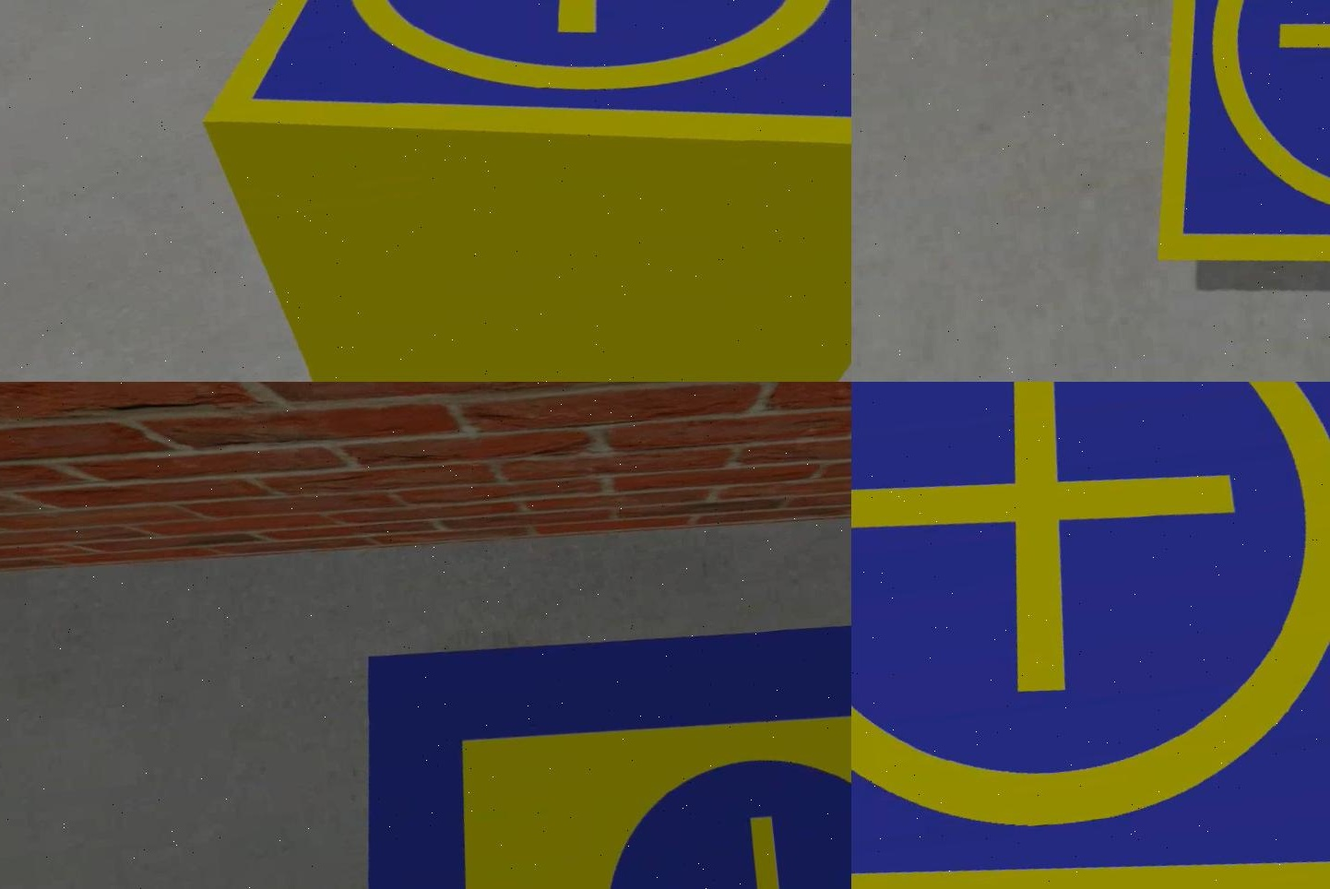large_base: (329, 572, 850, 889)
small_base: (850, 382, 1328, 889), (174, 1, 850, 236), (1111, 1, 1328, 310)
